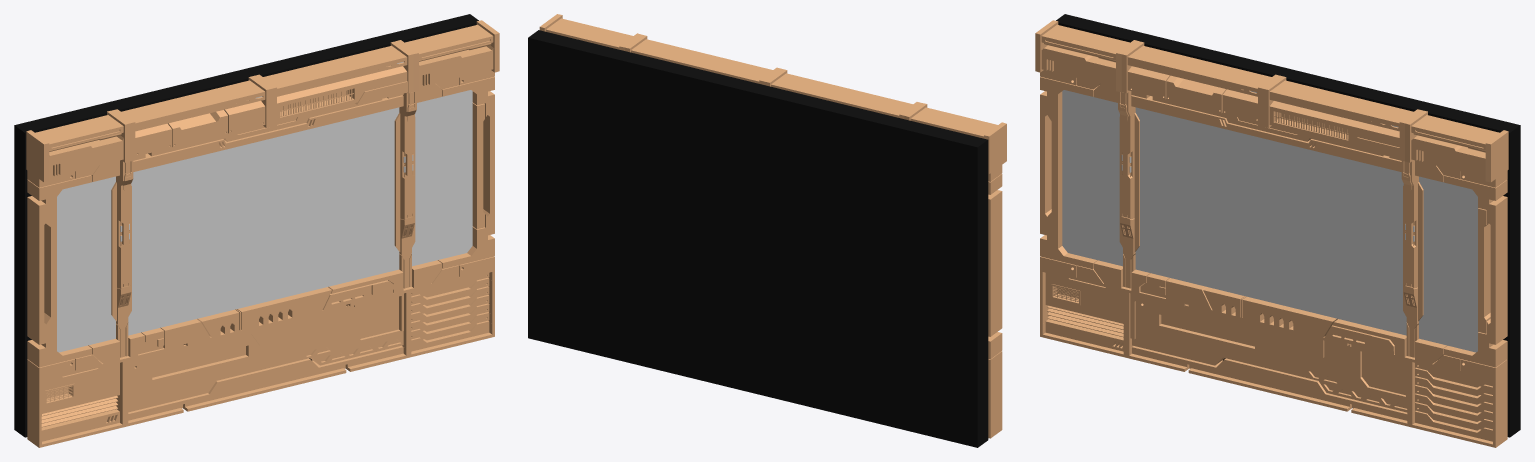
File: panel_high4-1.fbx
3 views of the same model, side by side, from view 1: azimuth 30°, elevation 25°; view 2: azimuth 150°, elevation 25°; view 3: azimuth 330°, elevation 25° (orthographic).
Visible parts, largest first — view 1: panel.004; view 2: panel.004; view 3: panel.004.
Part boxes in pixels (left/top/right/bottom): panel.004: left=14, top=14, right=499, bottom=447; panel.004: left=528, top=14, right=1006, bottom=447; panel.004: left=1035, top=14, right=1520, bottom=447.
Size of the model in its own units: 4070 by 2621 by 460.
